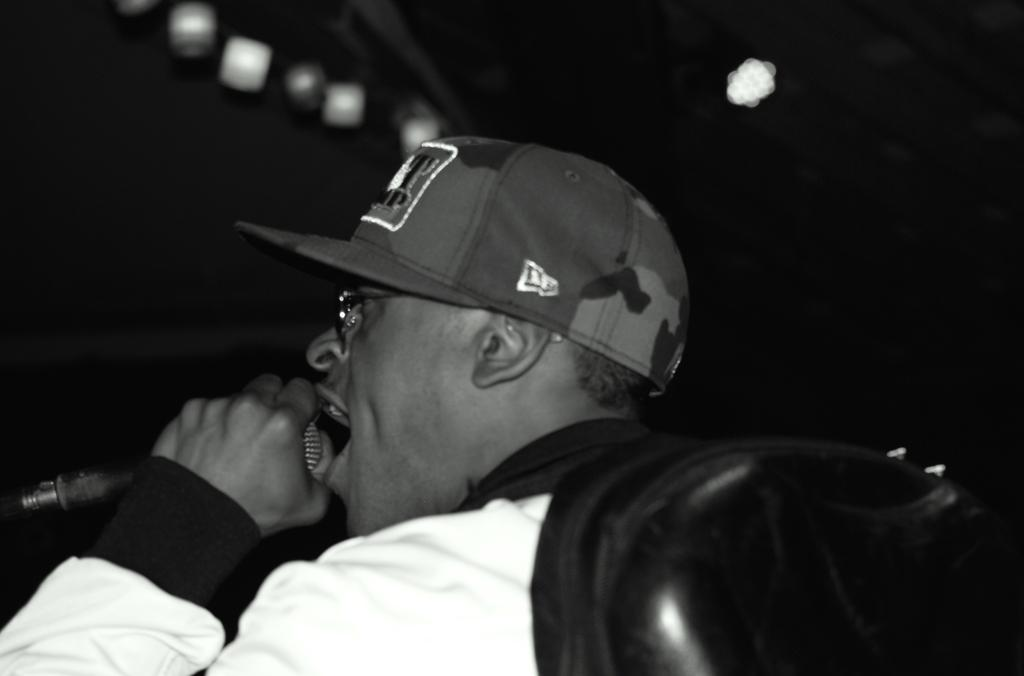Hat: (232, 138, 690, 396)
